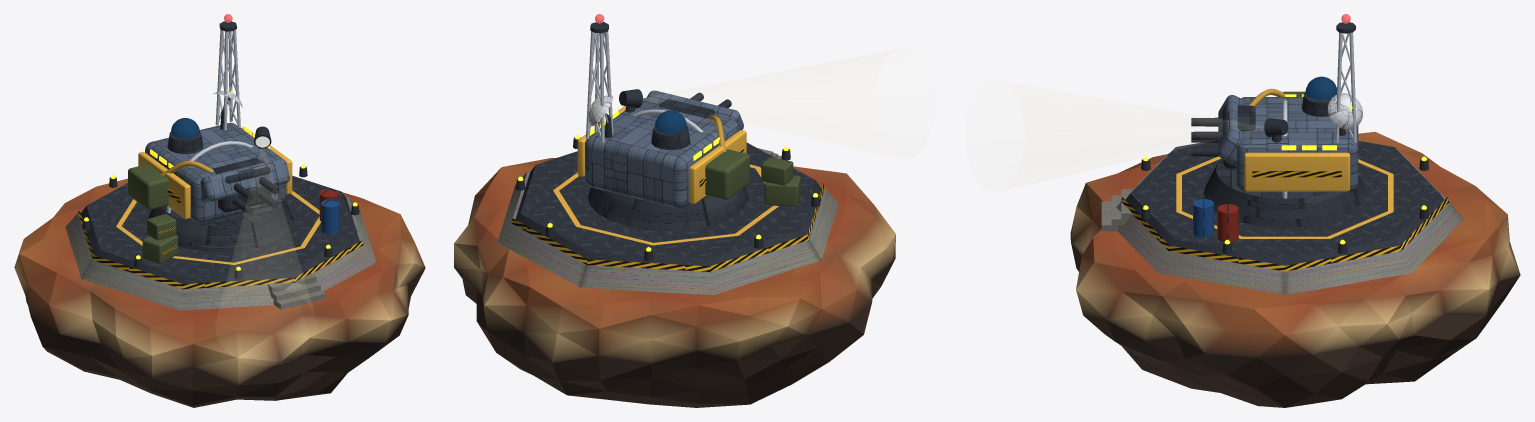
File: autocannon-L75.glb
3 renders of one model, left to right at view 1: azimuth 30°, elevation 25°; view 2: azimuth 150°, elevation 25°; view 3: azimuth 270°, elevation 25°, orthographic. The views are drawn at different scales.
Visible parts, largest first — view 1: object 1, anim:yaw, object 4, object 2, object 35, object 3, anim:pitch, object 5, object 25, object 32, object 27, object 22 (+1 smaller); view 2: object 1, anim:yaw, object 4, object 2, object 35, object 3, object 5, object 25, object 27, anim:pitch, anim:rot; view 3: object 1, object 4, anim:yaw, object 2, object 35, object 3, object 5, anim:rot, object 29, object 32, anim:pitch.
Boxes of the visible parts, <box> form: object 1: <box>14,178,425,407</box>; anim:yaw: <box>128,14,292,223</box>; object 4: <box>81,175,359,283</box>; object 2: <box>65,196,376,310</box>; object 35: <box>148,200,293,251</box>; object 3: <box>78,209,363,289</box>; anim:pitch: <box>212,158,271,212</box>; object 5: <box>116,190,320,264</box>; object 25: <box>142,235,177,264</box>; object 32: <box>321,199,339,233</box>; object 27: <box>147,214,176,240</box>; object 22: <box>273,290,325,309</box>; object 1: <box>454,158,895,407</box>; anim:yaw: <box>577,14,749,208</box>; object 4: <box>515,142,821,266</box>; object 2: <box>497,170,838,294</box>; object 35: <box>588,187,748,230</box>; object 3: <box>511,183,824,271</box>; object 5: <box>553,164,778,245</box>; object 25: <box>764,175,800,206</box>; object 27: <box>761,157,793,185</box>; anim:pitch: <box>658,99,715,118</box>; anim:rot: <box>588,95,613,126</box>; object 1: <box>1070,131,1520,407</box>; object 4: <box>1125,141,1444,265</box>; anim:yaw: <box>1218,14,1358,192</box>; object 2: <box>1116,153,1463,294</box>; object 35: <box>1203,158,1366,227</box>; object 3: <box>1121,197,1448,271</box>; object 5: <box>1176,156,1393,238</box>; anim:rot: <box>1328,93,1362,129</box>; object 29: <box>1217,204,1238,242</box>; object 32: <box>1193,199,1214,237</box>; anim:pitch: <box>1223,105,1255,168</box>.
Bounding box in the file's own units: 5.6 × 4.86 × 6.83.
Materials: 21 (7 with a texture image).
